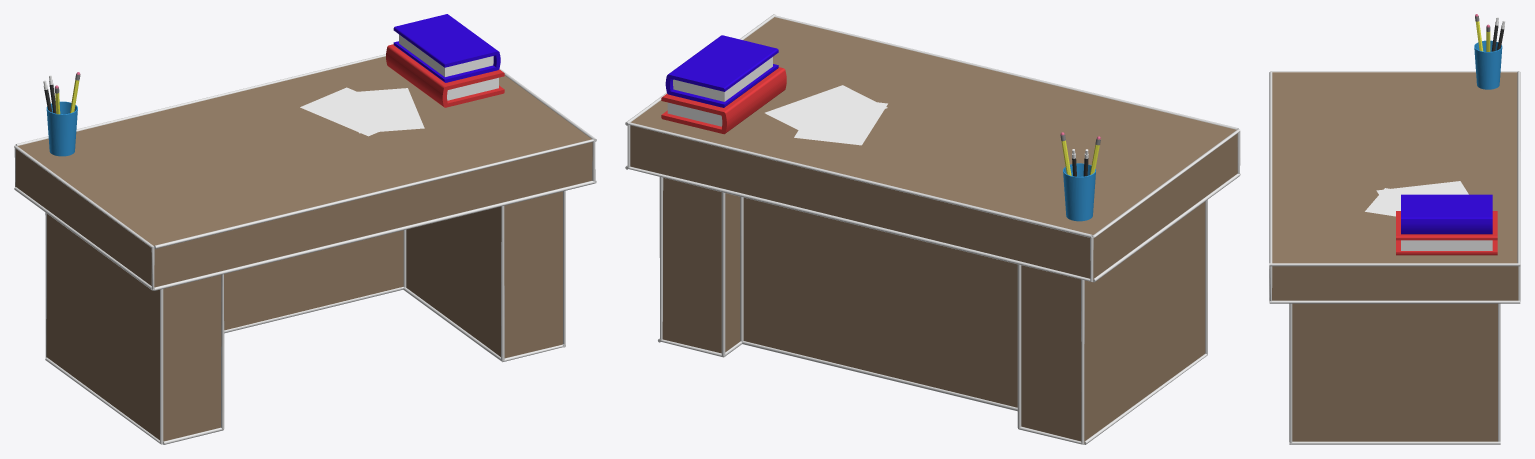
Rendered from 3rd-Level Doctor Table With Outline.fbx.
The picture shows the model from 3 angles, left to right: view 1: azimuth 30°, elevation 25°; view 2: azimuth 150°, elevation 25°; view 3: azimuth 270°, elevation 25°; orthographic projection. The views are drawn at different scales.
Parts seen in each view (by area): view 1: Table, Outline, Book 2, Papers, Book 1, Pen Holder; view 2: Table, Outline, Book 2, Papers, Book 1, Pen Holder; view 3: Table, Outline, Book 2, Book 1, Papers, Pen Holder.
Boxes of the visible parts, x1,y1,x2,y2 form: Table: (15,56,592,441); Outline: (14,54,596,444); Book 2: (393,14,500,82); Papers: (300,87,424,136); Book 1: (386,44,504,107); Pen Holder: (46,101,77,156); Table: (630,17,1237,443); Outline: (625,14,1240,444); Book 2: (665,35,778,107); Papers: (765,85,887,145); Book 1: (661,67,786,134); Pen Holder: (1063,163,1095,221); Table: (1272,72,1518,441); Outline: (1269,71,1520,444); Book 2: (1401,194,1492,234); Book 1: (1396,211,1497,255); Papers: (1365,181,1468,216); Pen Holder: (1474,40,1502,89).
Bounding box in the file's own units: 443 × 273 × 242.
